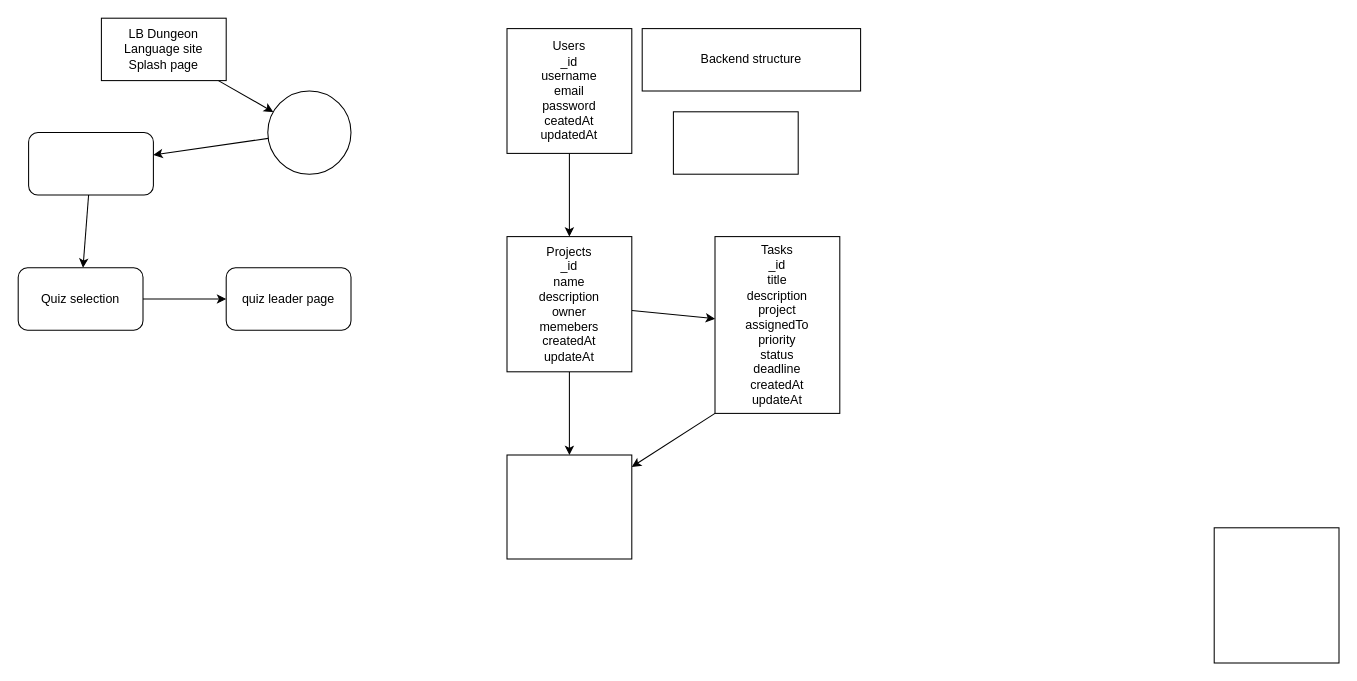
The diagram is 1357 pixels wide and 681 high, and some of its shapes have lost their labels. Each missing label, with the box of its shape:
login/ signup: (267, 90, 351, 174)
Main page: (28, 132, 153, 195)
Notifications _id user message read createdAt: (506, 454, 632, 559)
Quiz question bank: (672, 111, 798, 174)
